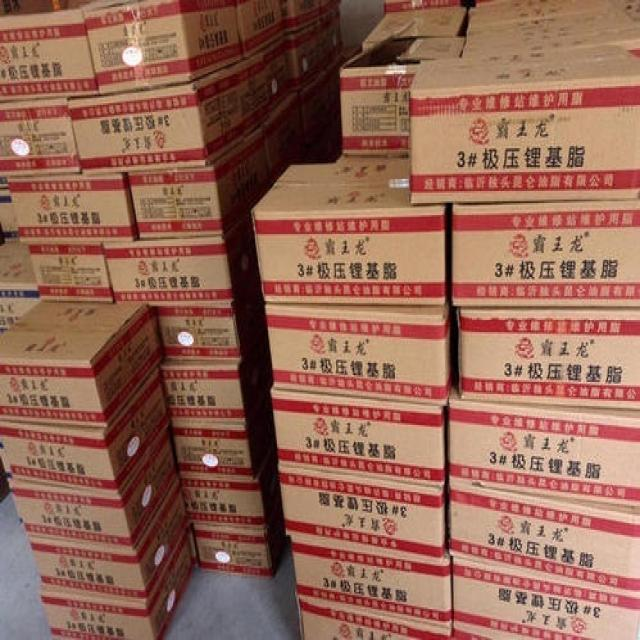box: (408, 43, 640, 201), (251, 162, 446, 306), (449, 387, 640, 511), (0, 368, 169, 492), (445, 485, 640, 592), (27, 478, 190, 602), (12, 428, 177, 549), (453, 201, 640, 306), (68, 67, 244, 175), (265, 305, 453, 406), (457, 308, 640, 409), (269, 387, 446, 487), (40, 537, 195, 640), (453, 557, 640, 640), (278, 466, 445, 557), (341, 34, 467, 153), (127, 131, 268, 237), (104, 210, 260, 305), (83, 0, 242, 93), (290, 537, 453, 626), (159, 330, 273, 423), (8, 172, 139, 246), (466, 2, 640, 57), (0, 9, 99, 100), (155, 284, 267, 363), (172, 397, 274, 478), (181, 451, 281, 526), (298, 594, 453, 640), (194, 504, 287, 576), (0, 96, 81, 177), (28, 243, 113, 303), (469, 0, 635, 29), (366, 7, 466, 45), (263, 93, 304, 179), (0, 241, 37, 332), (235, 0, 285, 60), (237, 55, 272, 136), (283, 28, 321, 91), (330, 45, 360, 122), (300, 74, 330, 146), (263, 43, 292, 115), (282, 0, 321, 36), (0, 184, 19, 243), (324, 14, 344, 65), (314, 22, 333, 74), (454, 628, 509, 640), (185, 526, 199, 571), (0, 434, 12, 478), (340, 155, 410, 162), (618, 40, 640, 58), (319, 0, 340, 17)
